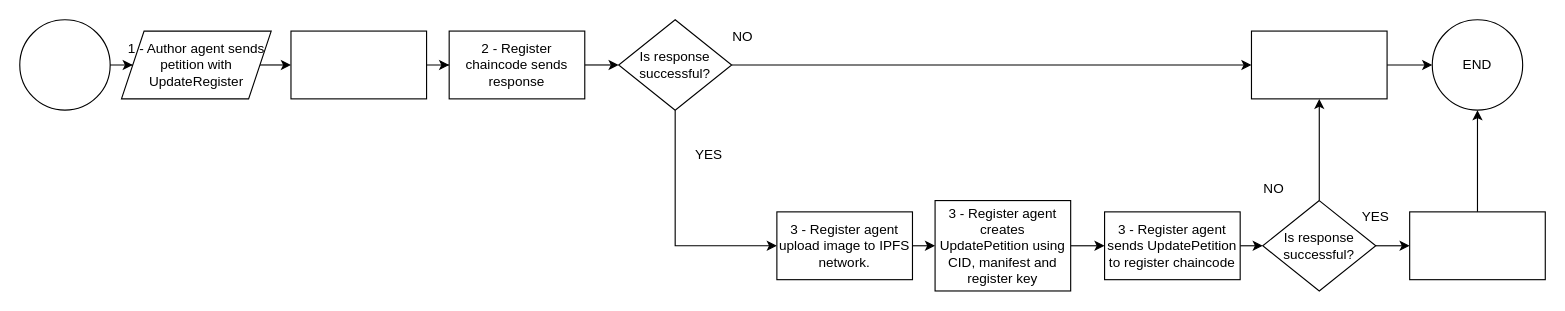
The diagram is 1565 pixels wide and 311 high, and some of its shapes have lost their labels. Each missing label, with the centre of its shape:
"2 - Register agent sends petition to register chaincode" goes at [358,64].
"5 - Error message is sent" goes at [1318,64].
"5 - Succes message is sent" goes at [1477,245].
"START" goes at [64,64].
